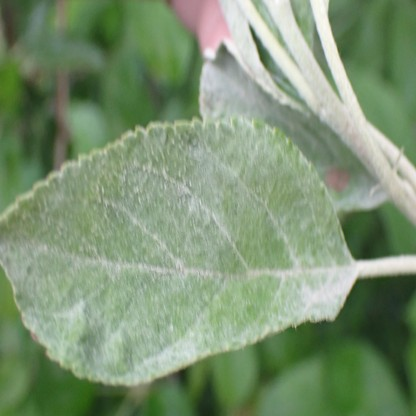powdery_mildew: (1, 117, 359, 387), (199, 43, 273, 116)
